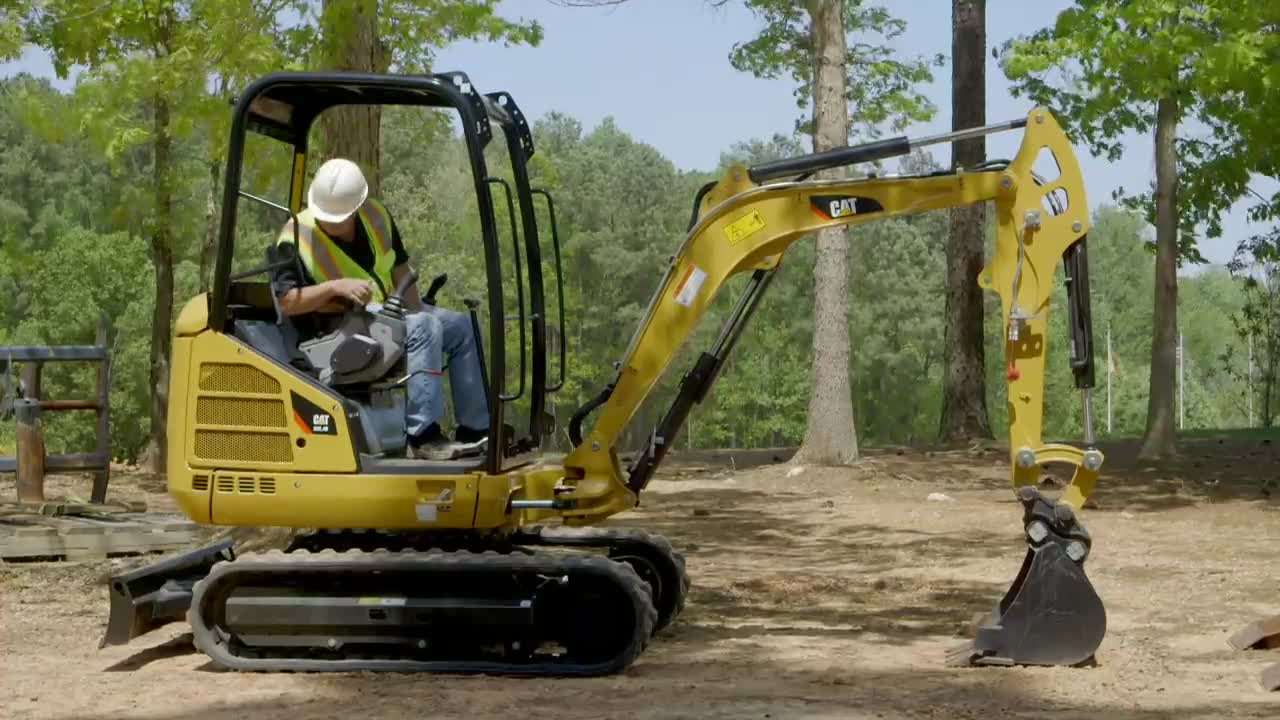attachment-bucket: (934, 497, 1106, 685)
cabin: (168, 70, 569, 525)
forearm: (983, 109, 1089, 514)
upperarm: (568, 170, 1016, 485)
wheelbase: (173, 523, 706, 684)
